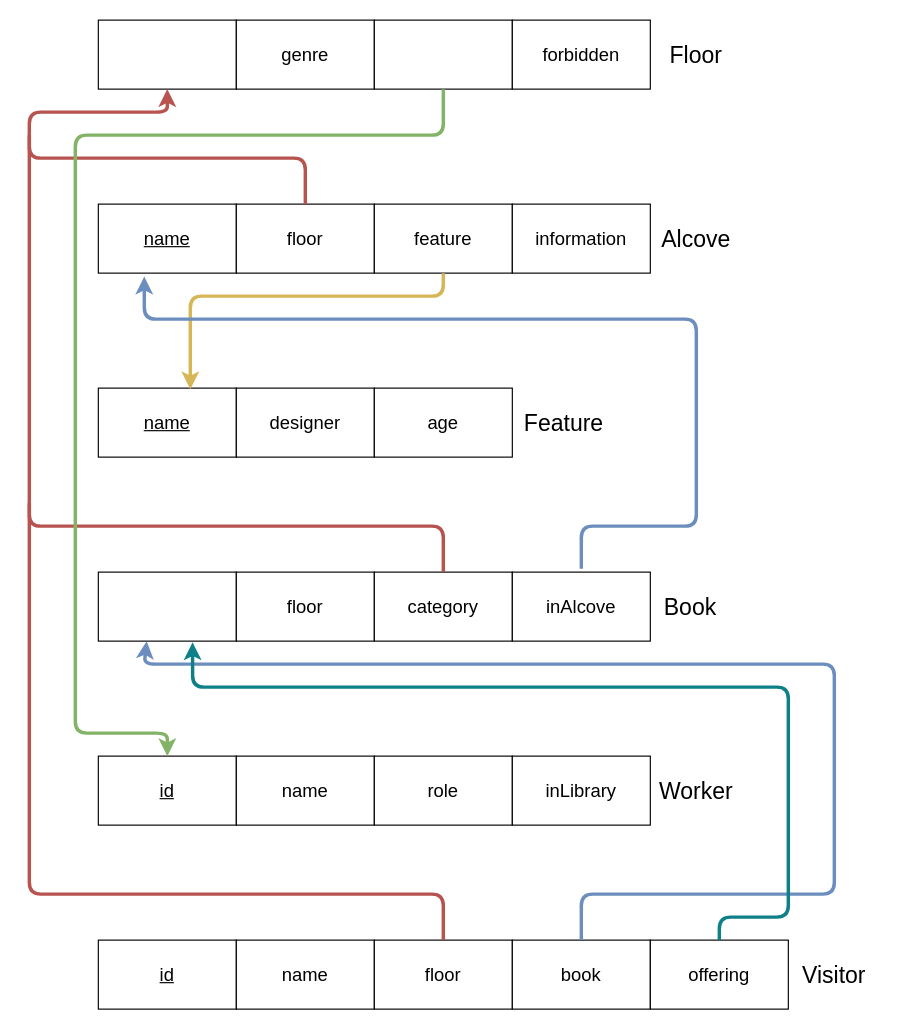
Image size: 900x1029. Some labels were removed from this diagram. The shapes that lost their labels are listed below. From the top down, each one's centre as x and y in pixels, then its label:
[166,54]: number
[442,54]: maintainer
[166,606]: title
